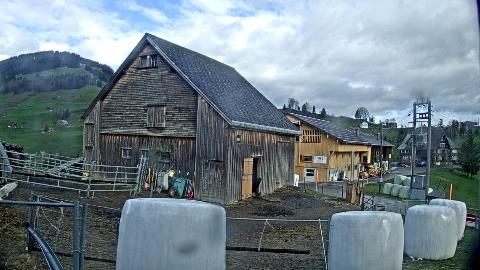car: (418, 161, 426, 167)
sheep: (252, 176, 262, 192)
